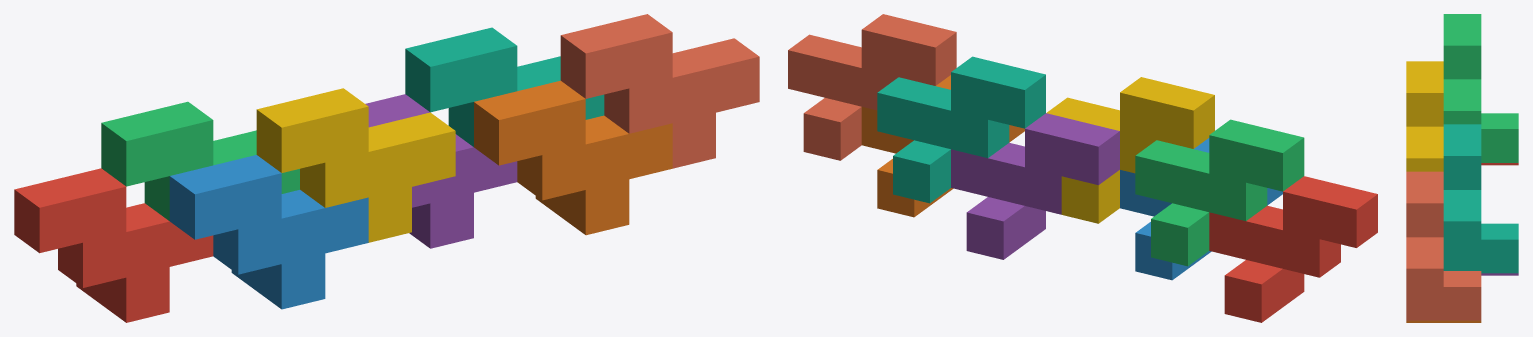
Rendered from tiling.obj.
3 views of the same model, side by side, from view 1: azimuth 30°, elevation 25°; view 2: azimuth 150°, elevation 25°; view 3: azimuth 270°, elevation 25° (orthographic). The views are drawn at different scales.
Visible parts, largest first — view 1: copy_1_domain_2, copy_1_domain_8, copy_1_domain_4, copy_1_domain_6, copy_1_domain_1, copy_1_domain_7, copy_1_domain_3, copy_1_domain_5; view 2: copy_1_domain_3, copy_1_domain_7, copy_1_domain_1, copy_1_domain_5, copy_1_domain_8, copy_1_domain_4, copy_1_domain_6, copy_1_domain_2; view 3: copy_1_domain_7, copy_1_domain_8, copy_1_domain_3, copy_1_domain_4, copy_1_domain_6, copy_1_domain_1, copy_1_domain_5.
Part boxes in pixels (left/top/right/bottom): copy_1_domain_2: left=169, top=155, right=368, bottom=309; copy_1_domain_8: left=560, top=14, right=759, bottom=168; copy_1_domain_4: left=256, top=88, right=455, bottom=242; copy_1_domain_6: left=474, top=80, right=672, bottom=235; copy_1_domain_1: left=14, top=168, right=213, bottom=322; copy_1_domain_7: left=405, top=27, right=604, bottom=146; copy_1_domain_3: left=101, top=101, right=299, bottom=220; copy_1_domain_5: left=365, top=94, right=517, bottom=248; copy_1_domain_3: left=1135, top=119, right=1304, bottom=266; copy_1_domain_7: left=877, top=56, right=1045, bottom=203; copy_1_domain_1: left=1209, top=176, right=1377, bottom=322; copy_1_domain_5: left=951, top=113, right=1119, bottom=259; copy_1_domain_8: left=788, top=14, right=956, bottom=160; copy_1_domain_4: left=1046, top=77, right=1214, bottom=223; copy_1_domain_6: left=861, top=75, right=1024, bottom=217; copy_1_domain_2: left=1120, top=138, right=1282, bottom=280; copy_1_domain_7: left=1443, top=124, right=1518, bottom=273; copy_1_domain_8: left=1406, top=171, right=1481, bottom=320; copy_1_domain_3: left=1443, top=14, right=1518, bottom=162; copy_1_domain_4: left=1406, top=61, right=1443, bottom=171; copy_1_domain_6: left=1406, top=320, right=1481, bottom=322; copy_1_domain_1: left=1481, top=163, right=1518, bottom=165; copy_1_domain_5: left=1481, top=273, right=1518, bottom=275.
Bounding box in the file's own units: 16 × 4 × 3.
